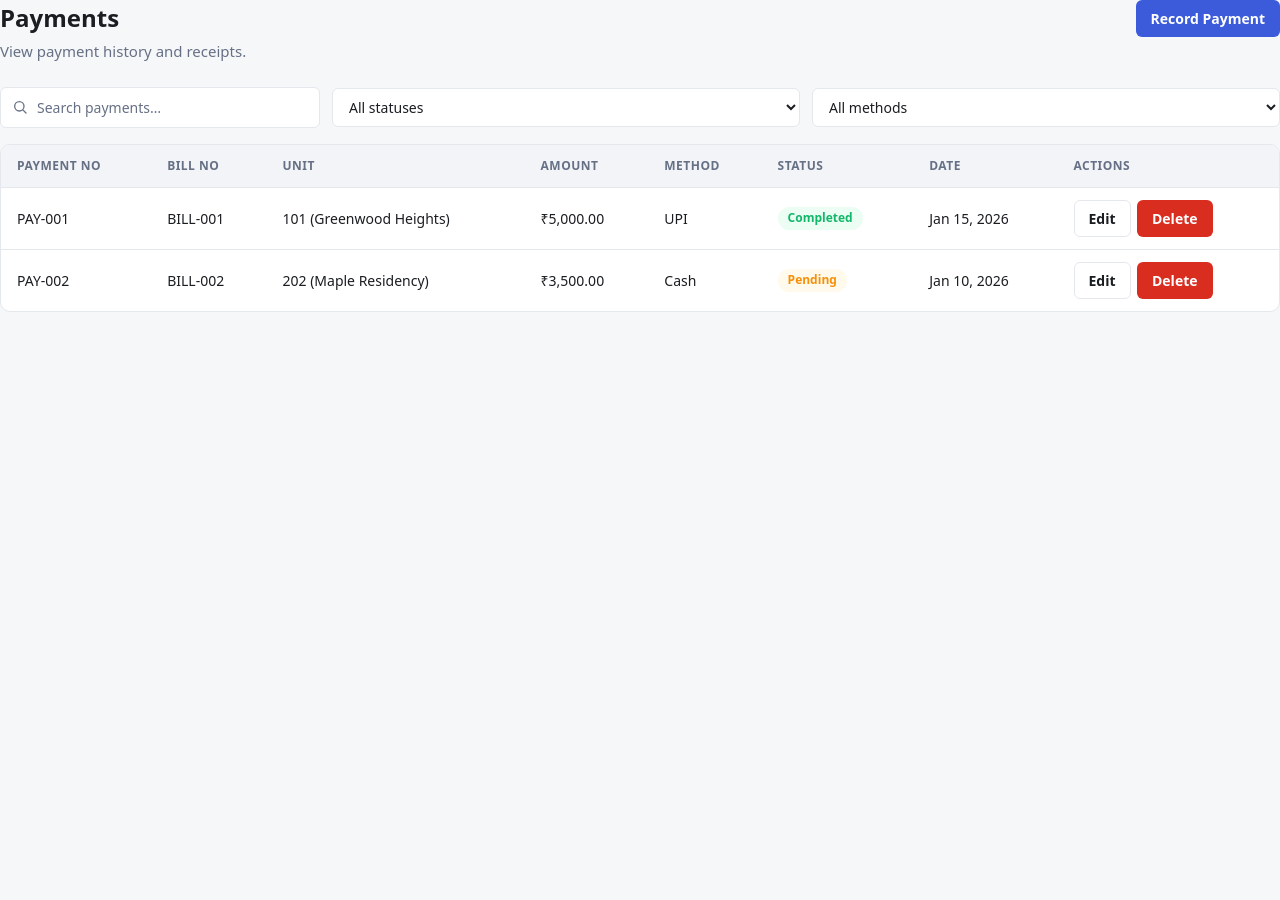
it: PaymentsPage CRUD functionality › shows API error on create
Expected: the text "PAY-001" is shown, [1, 187, 151, 249]
Click the button "Record Payment": (1208, 18) [1136, 0, 1279, 37]
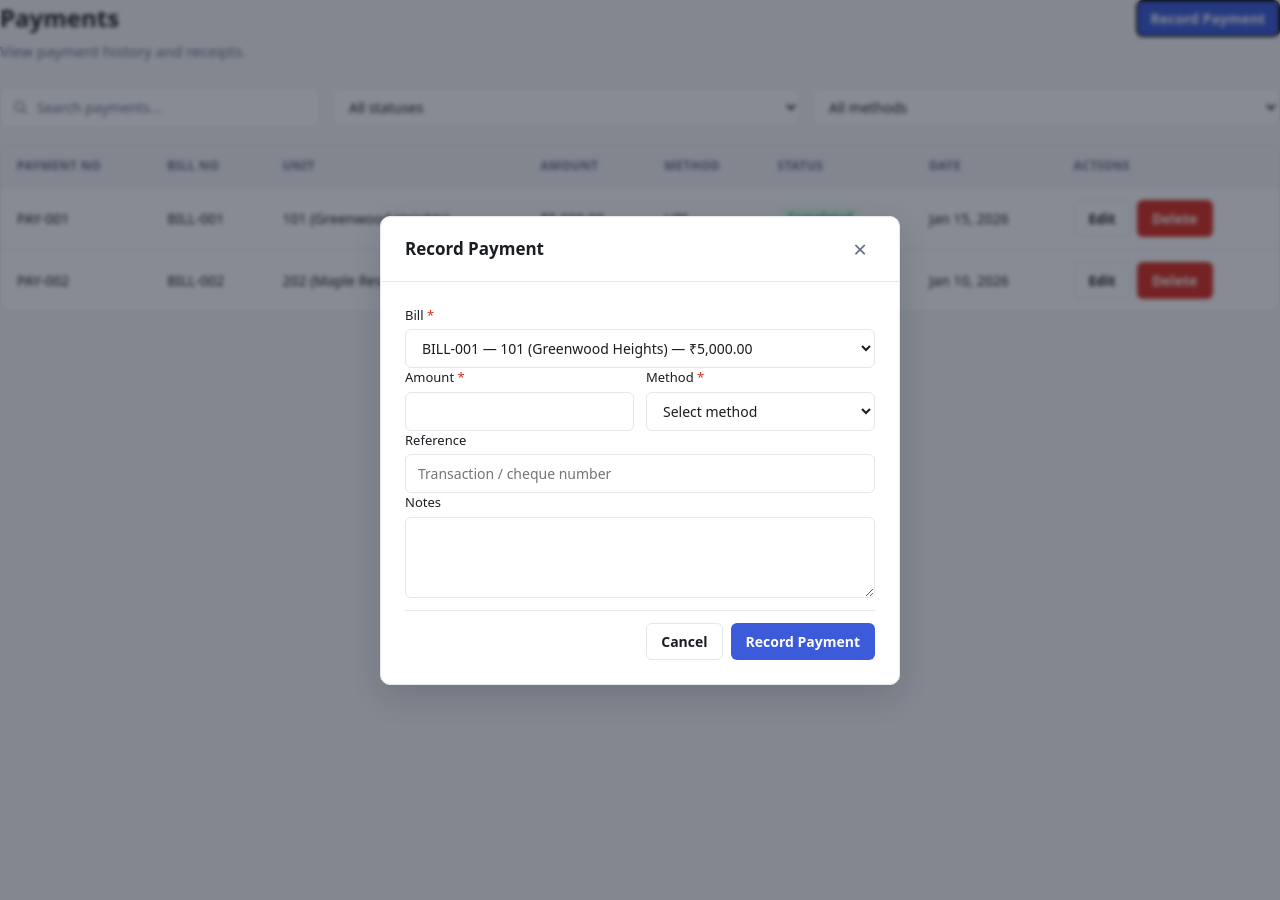
Select "BILL-001 — 101 (Greenwood Heights) — ₹5,000.00" in the dropdown labelled "Bill *": (640, 348) [405, 329, 875, 368]
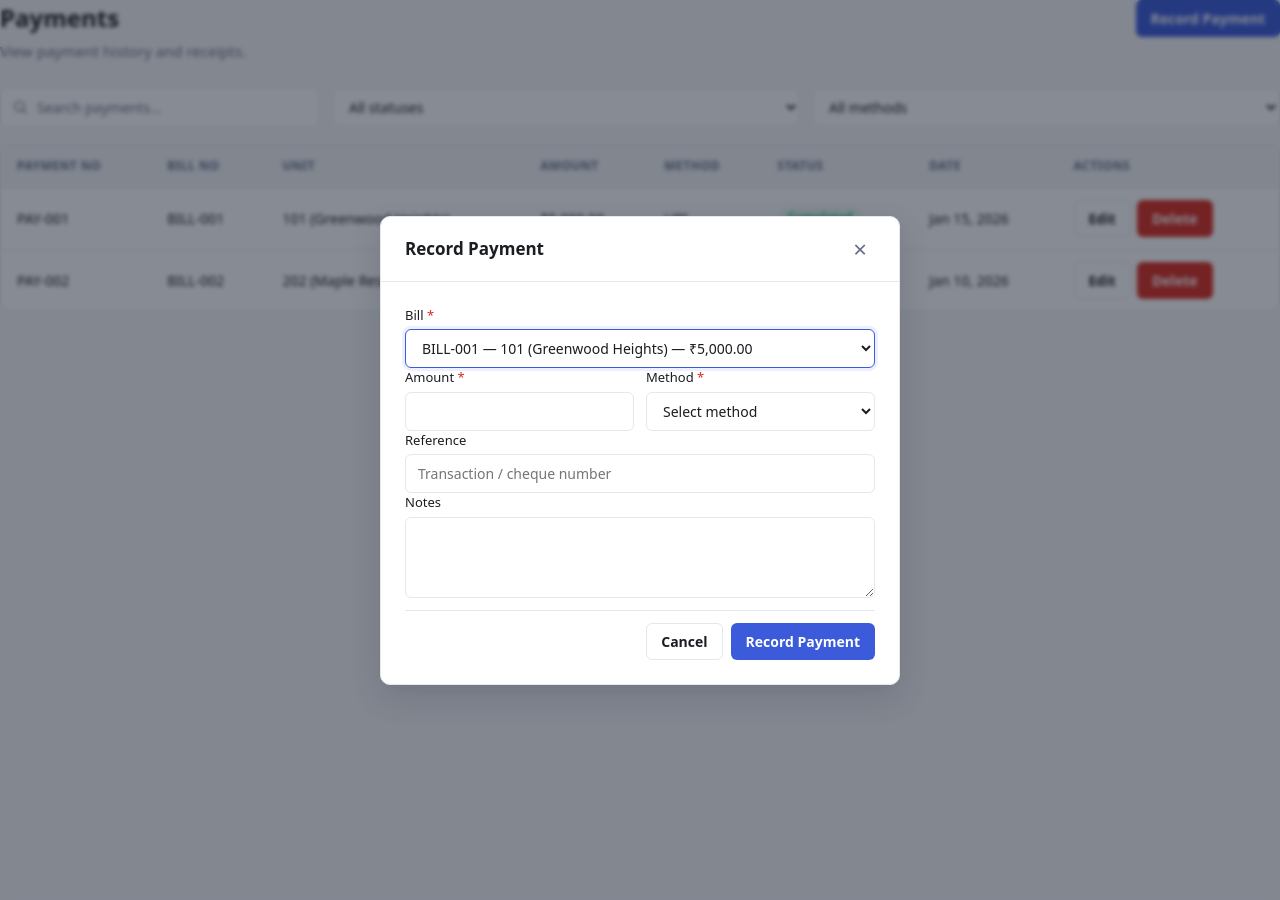
In the number field labelled "Amount *": (520, 411) [405, 392, 634, 430], type "5000"
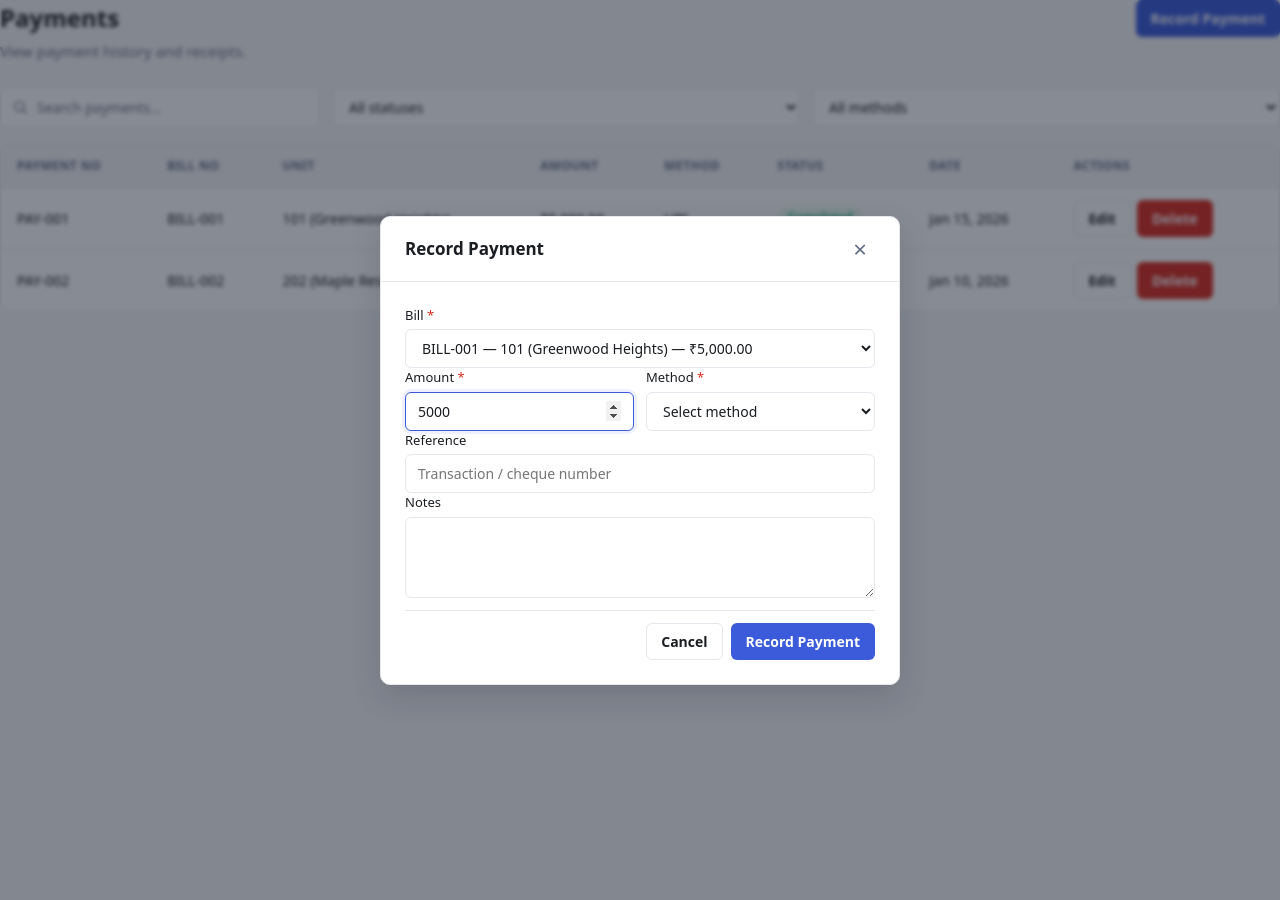
Select "UPI" in the dropdown labelled "Method *": (760, 411) [646, 392, 875, 430]
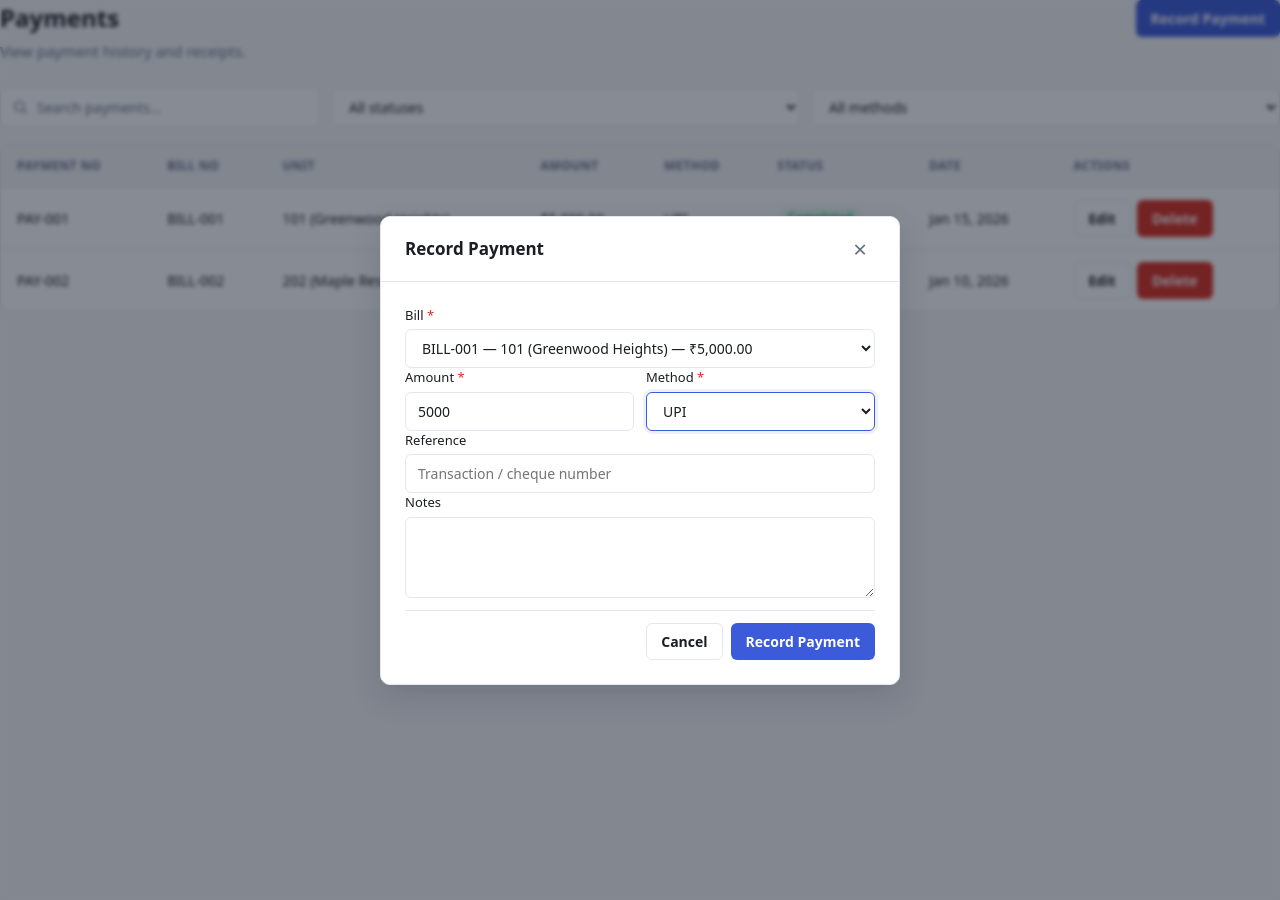
Click the button "Record Payment": (803, 641) [730, 622, 875, 660]
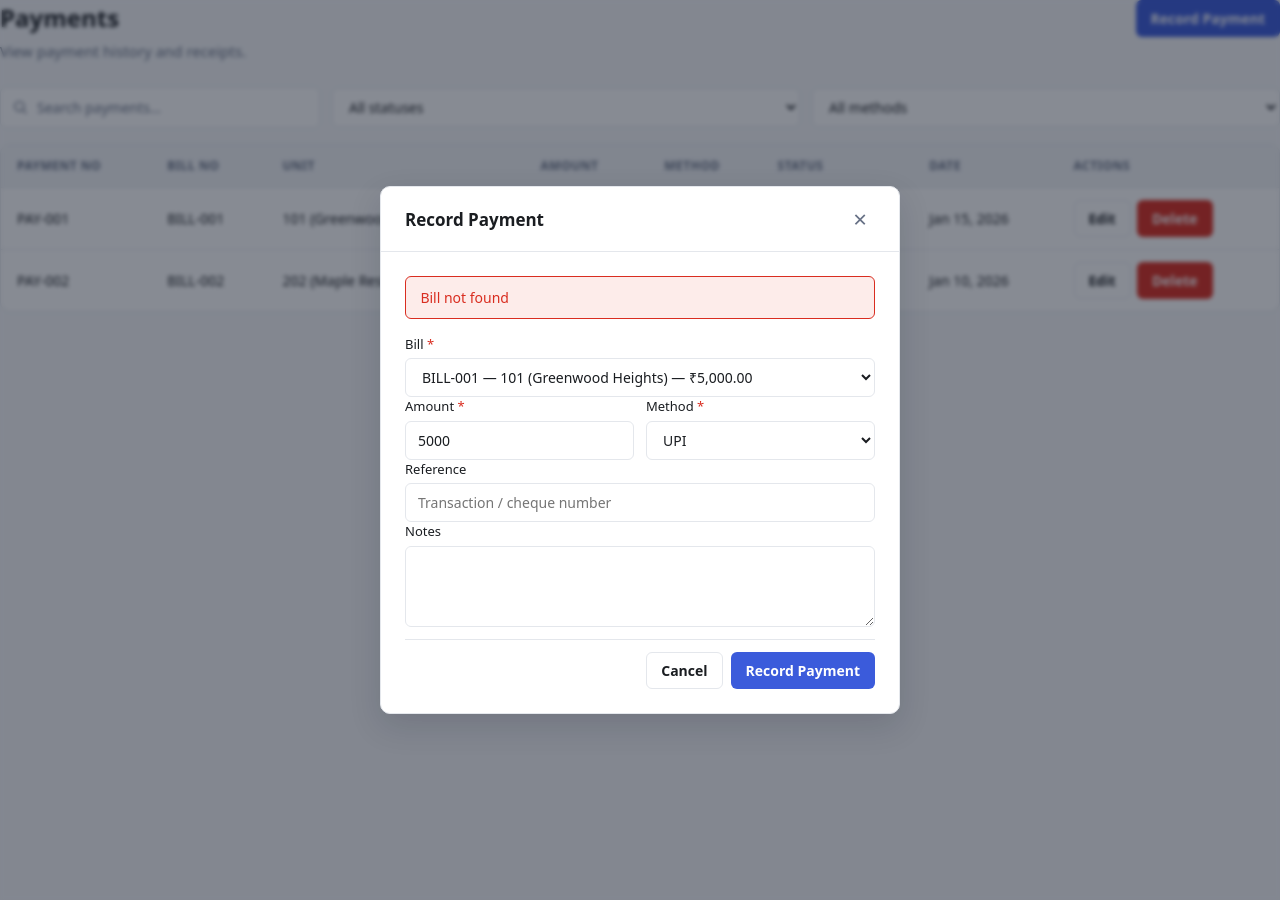
Result: the text "Bill not found" is shown at [405, 276, 875, 319]
